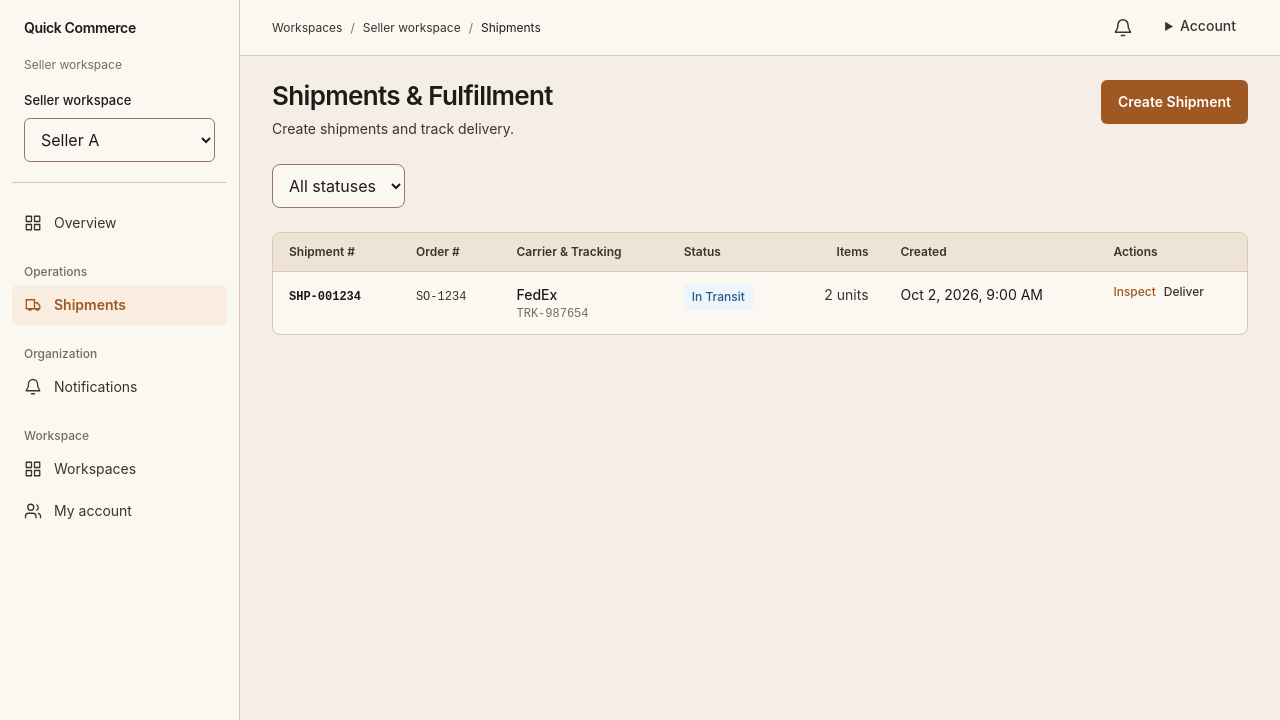
Test: Fulfillment, Returns, and Refunds UI › renders seller shipments list and shows details modal
Check: the text "SHP-001234" is shown, box 289,290 -> 361,304
Check: the text "FedEx" is shown, box 516,286 -> 557,303
Note: Click "Inspect" to open the shipment inspection modal
Click the button "Inspect" at coordinates (1135, 292), box 1113,284 -> 1156,300
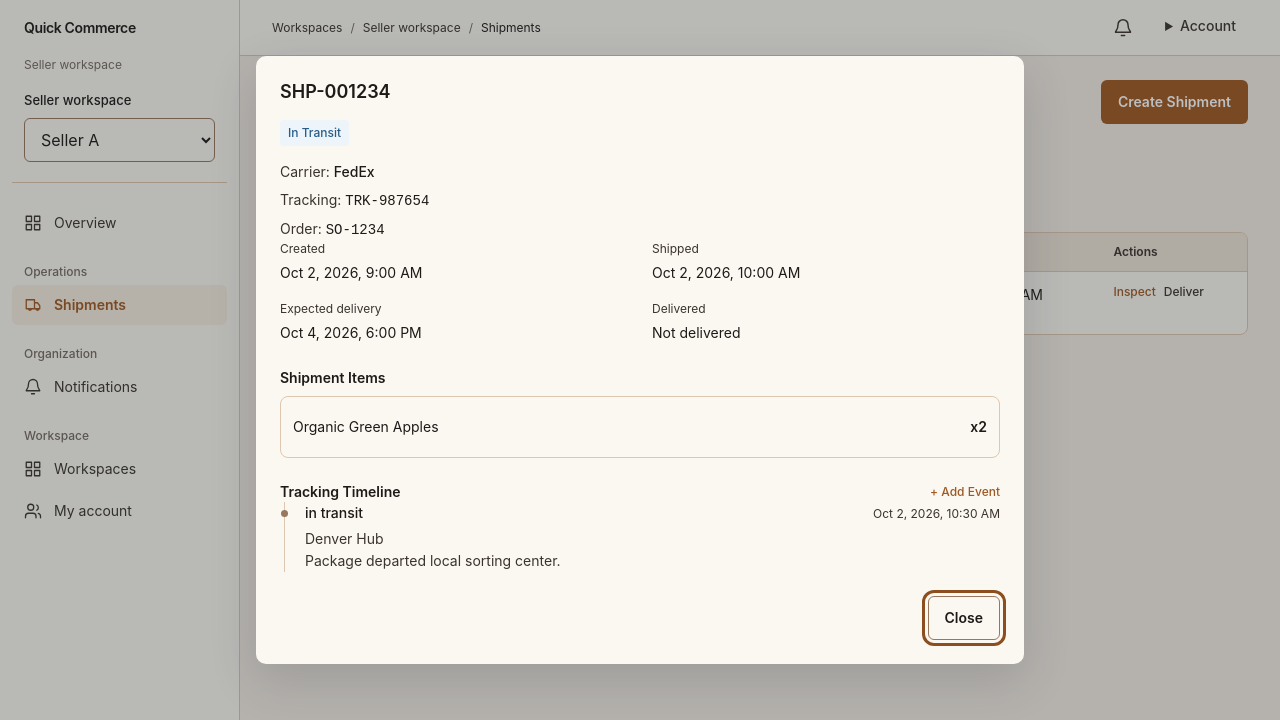
Check: the text "Organic Green Apples" is shown, box 293,417 -> 439,437
Check: the text "x2" is shown, box 970,417 -> 987,437
Check: the text "Package departed local sorting center." is shown, box 305,552 -> 561,569
